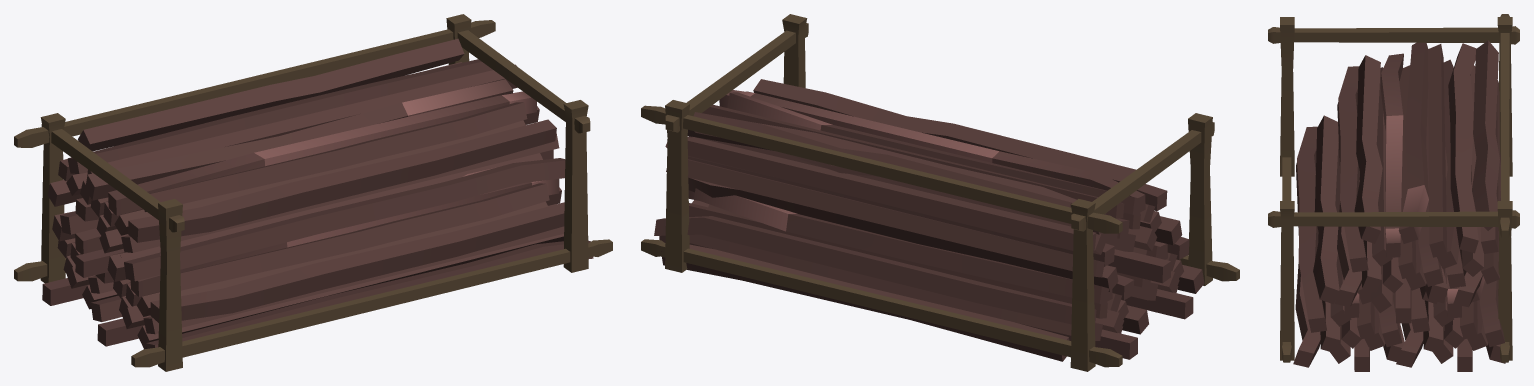
File: SM_Prop_SugarCane_Holder_02.glb
The picture shows the model from 3 angles, left to right: view 1: azimuth 30°, elevation 25°; view 2: azimuth 150°, elevation 25°; view 3: azimuth 270°, elevation 25°; orthographic projection. The views are drawn at different scales.
Visible parts, largest first — view 1: SM_Prop_SugarCane_Holder_02; view 2: SM_Prop_SugarCane_Holder_02; view 3: SM_Prop_SugarCane_Holder_02.
Boxes of the visible parts, <box> form: SM_Prop_SugarCane_Holder_02: <box>14,14,612,371</box>; SM_Prop_SugarCane_Holder_02: <box>641,14,1239,371</box>; SM_Prop_SugarCane_Holder_02: <box>1268,14,1519,371</box>.
Size of the model in its own units: 0.0208 by 0.00688 by 0.0102.
